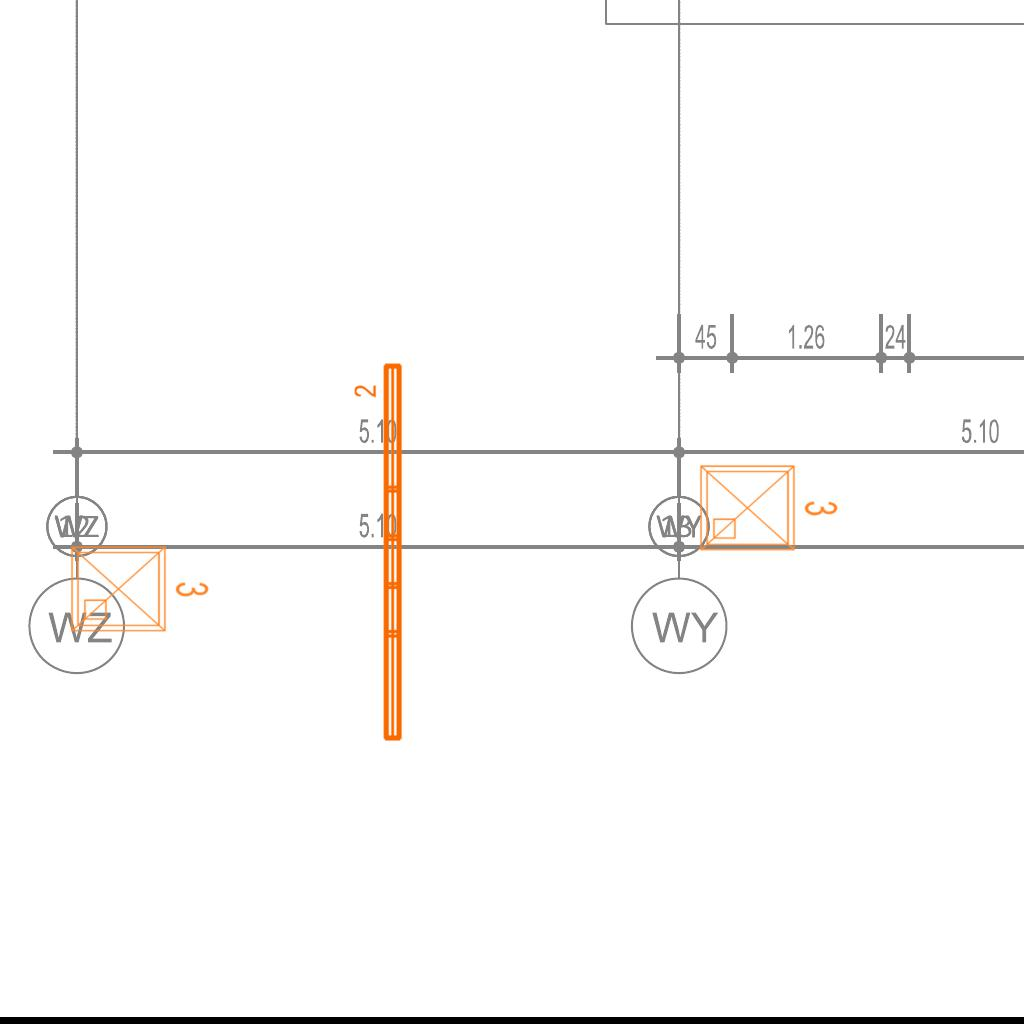Ambulanz_Pendelleuchte_LED: (352, 359, 408, 746)
Einbaudownlights_LED_Konferenzraeume: (693, 454, 843, 558), (64, 535, 214, 639)
